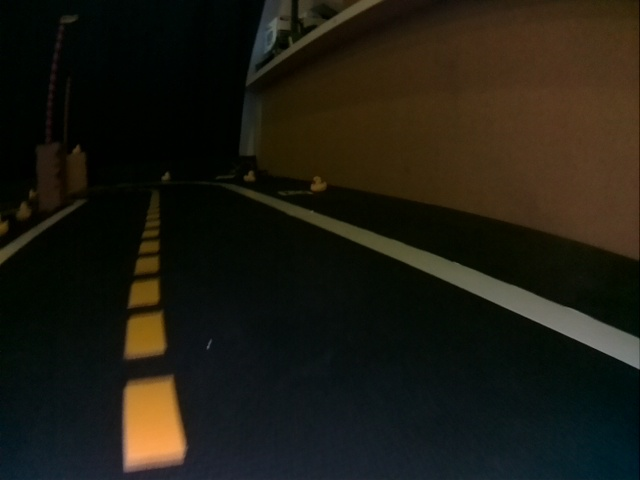Duckie: (310, 176, 327, 192), (17, 204, 31, 219), (0, 220, 10, 233), (244, 171, 255, 182), (73, 145, 82, 154), (161, 173, 170, 181)
